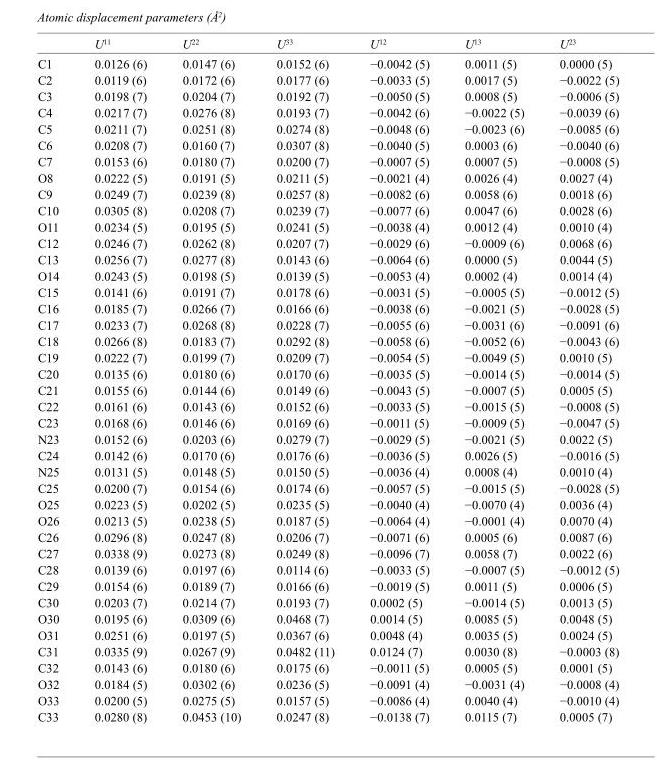table: (36, 36, 618, 723)
table column: (351, 36, 446, 723), (446, 36, 541, 723), (164, 36, 258, 723), (258, 36, 351, 723), (76, 36, 164, 723), (541, 36, 618, 723), (36, 36, 76, 723)
table column header: (36, 36, 618, 53)
table row: (36, 53, 618, 71), (36, 36, 618, 53), (36, 87, 618, 104), (36, 136, 618, 153), (36, 185, 618, 202), (36, 234, 618, 251), (36, 283, 618, 300), (36, 332, 618, 349), (36, 381, 618, 398), (36, 430, 618, 447), (36, 479, 618, 496), (36, 528, 618, 545), (36, 577, 618, 594), (36, 626, 618, 643), (36, 675, 618, 692), (36, 71, 618, 87), (36, 104, 618, 120), (36, 120, 618, 136), (36, 153, 618, 169), (36, 169, 618, 185), (36, 202, 618, 218), (36, 218, 618, 234), (36, 251, 618, 267), (36, 267, 618, 283), (36, 300, 618, 316), (36, 316, 618, 332), (36, 349, 618, 365), (36, 365, 618, 381), (36, 398, 618, 414), (36, 414, 618, 430), (36, 447, 618, 463), (36, 463, 618, 479), (36, 496, 618, 512), (36, 512, 618, 528), (36, 545, 618, 561), (36, 561, 618, 577), (36, 594, 618, 610), (36, 610, 618, 626), (36, 643, 618, 659), (36, 659, 618, 675), (36, 692, 618, 708), (36, 708, 618, 723)
